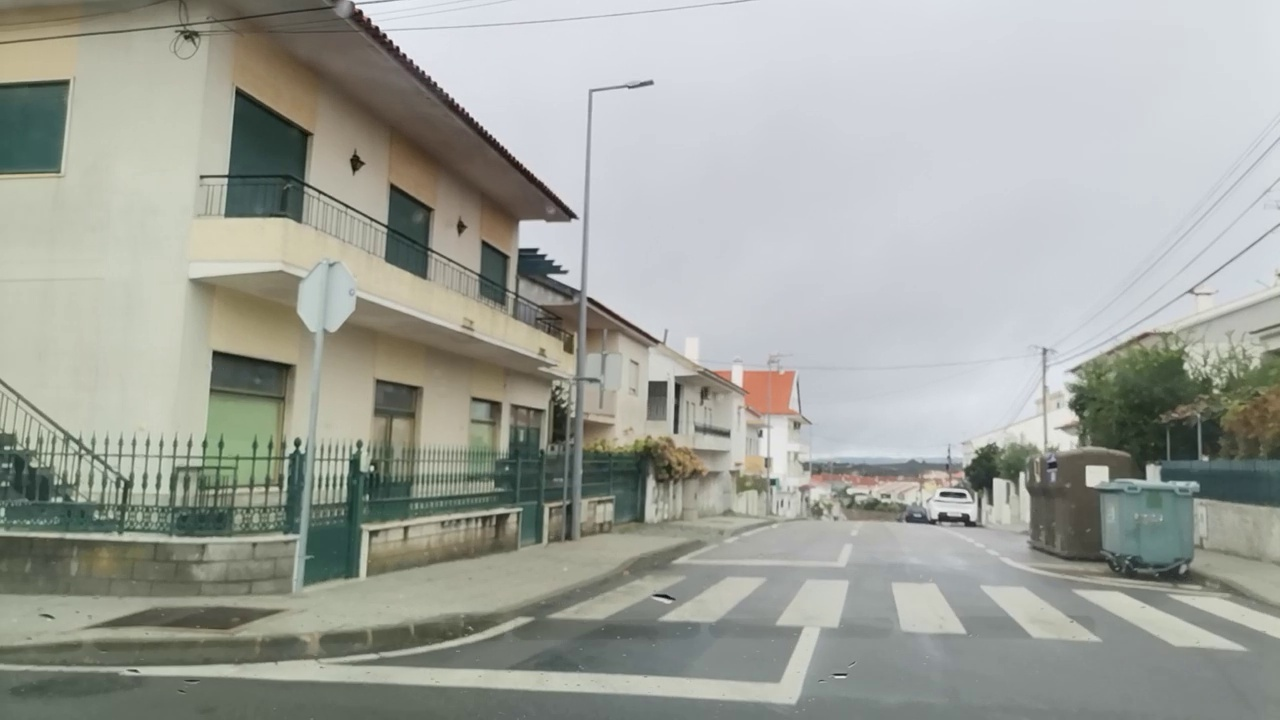Stairs: (553, 574, 1280, 641)
